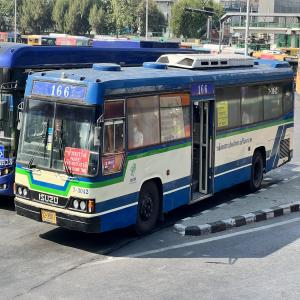BMTA-bus: (13, 53, 296, 236)
Bus Line Number: (29, 79, 88, 105)
Bus Side Number: (72, 185, 90, 197)
Destination Sign: (63, 147, 91, 177)
